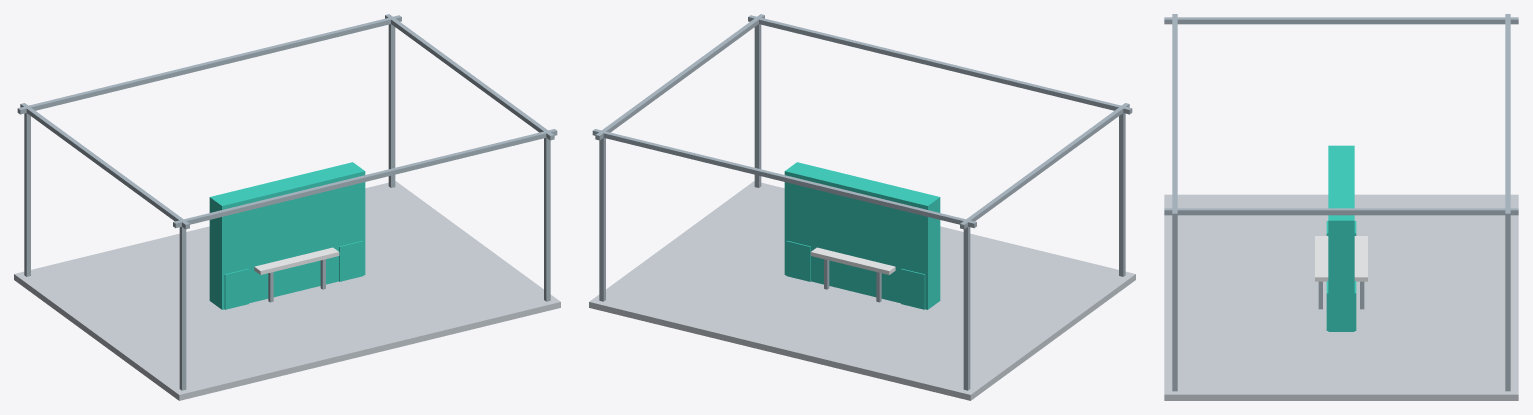
The picture shows the model from 3 angles, left to right: view 1: azimuth 30°, elevation 25°; view 2: azimuth 150°, elevation 25°; view 3: azimuth 270°, elevation 25°; orthographic projection. The views are drawn at different scales.
Visible parts, largest first — view 1: Exhibition Booth Concept; view 2: Exhibition Booth Concept; view 3: Exhibition Booth Concept.
Part boxes in pixels (left/top/right/bottom): Exhibition Booth Concept: left=14, top=14, right=560, bottom=400; Exhibition Booth Concept: left=589, top=14, right=1135, bottom=400; Exhibition Booth Concept: left=1164, top=14, right=1518, bottom=400.
Size of the model in its own units: 8 by 3.49 by 6.
